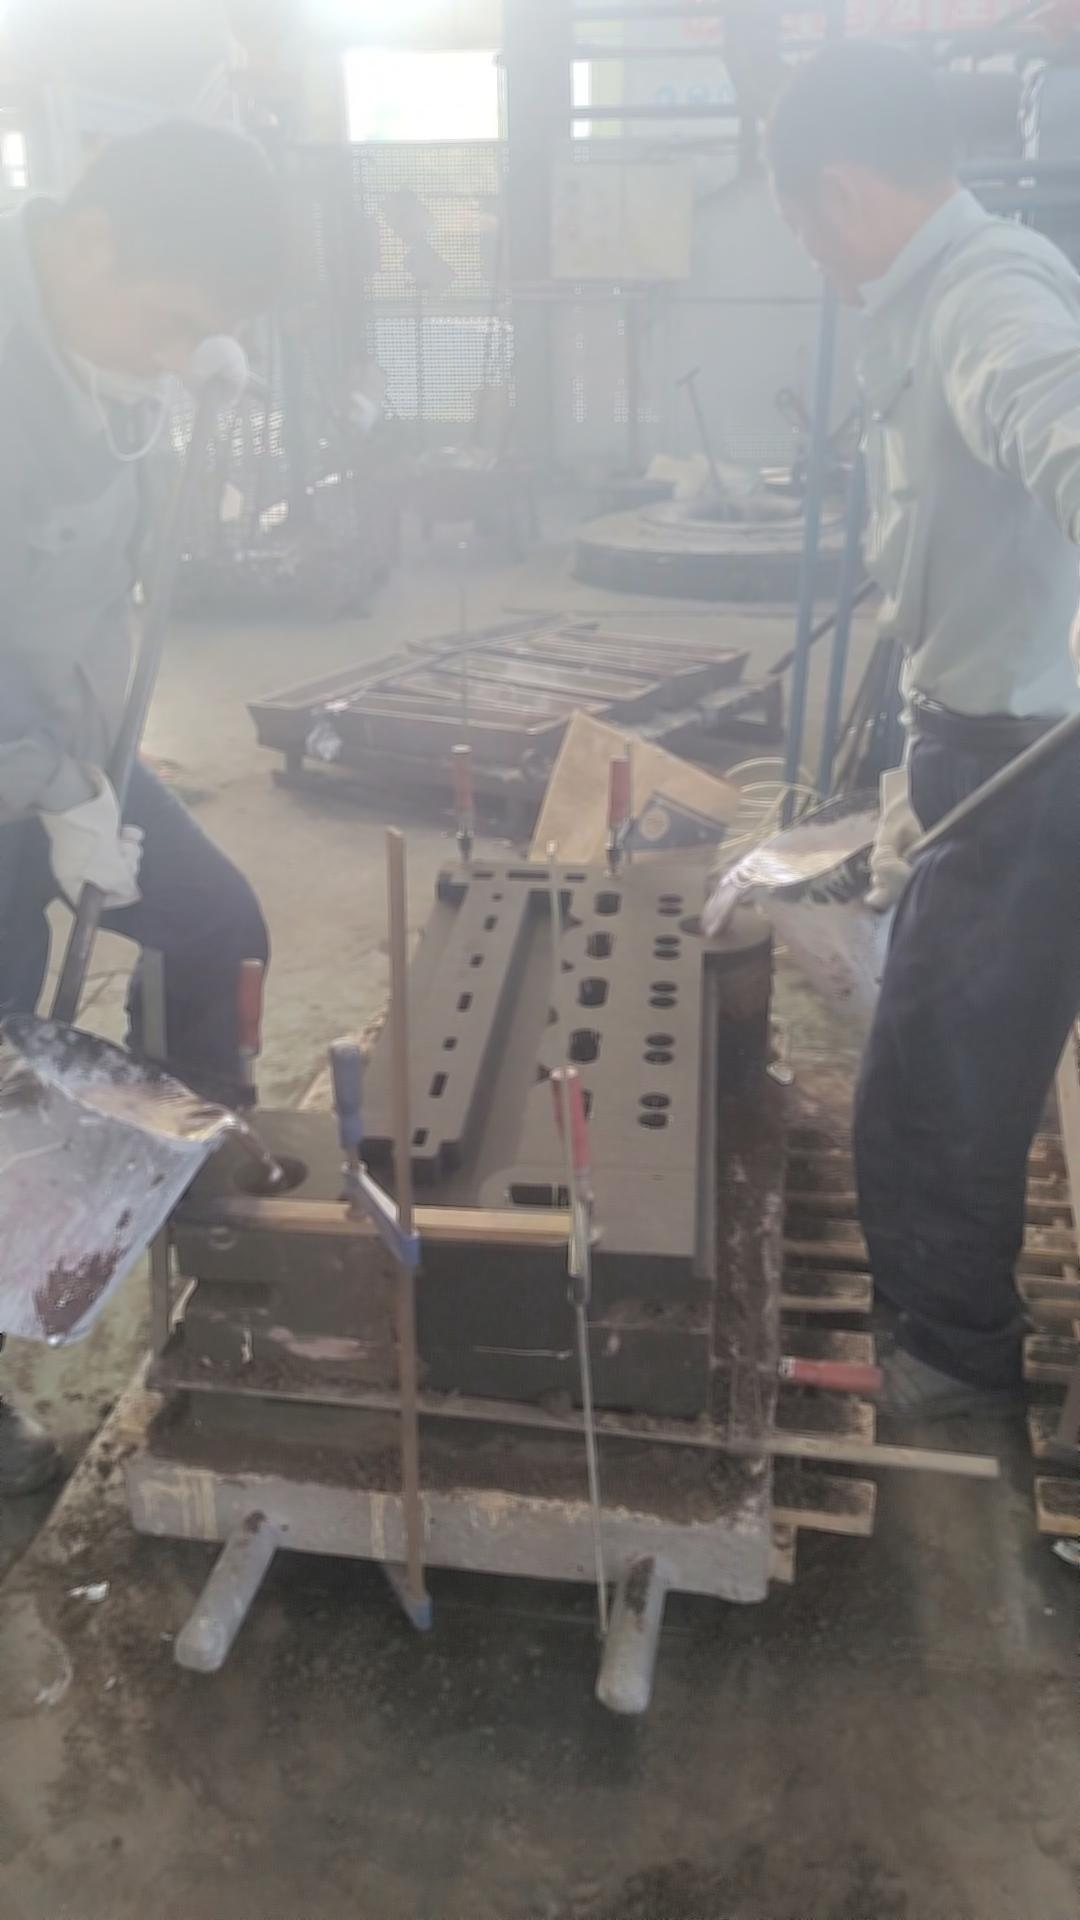pouring hole: (233, 1155, 310, 1197), (675, 915, 742, 938)
